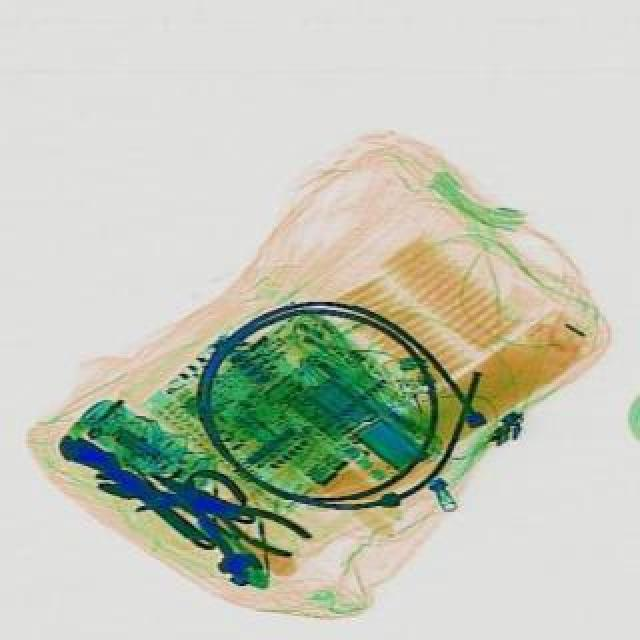scissors: (50, 422, 222, 558), (88, 462, 256, 530)
wrench: (140, 456, 312, 564)
